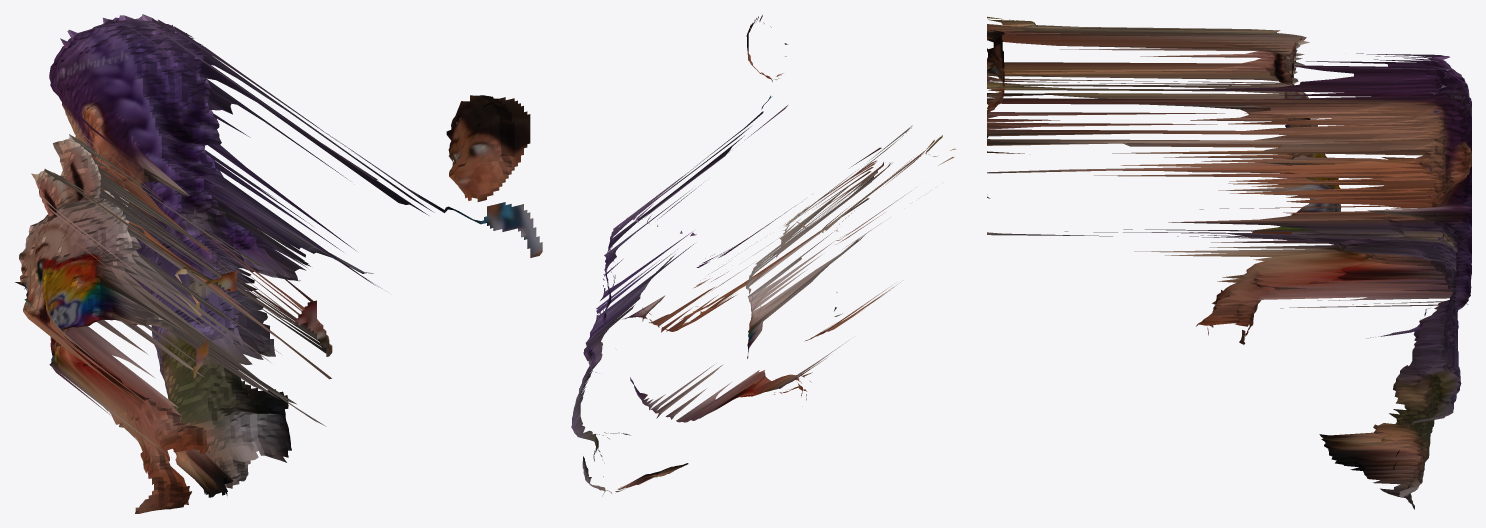
The model's file is frame_00271.glb.
3 renders of one model, left to right at view 1: azimuth 30°, elevation 25°; view 2: azimuth 150°, elevation 25°; view 3: azimuth 270°, elevation 25°, orthographic. The views are drawn at different scales.
Visible parts, largest first — view 1: geometry_0; view 2: geometry_0; view 3: geometry_0.
Part boxes in pixels (x1=…): geometry_0: x1=15, y1=14, x2=542, y2=513; geometry_0: x1=571, y1=15, x2=956, y2=496; geometry_0: x1=987, y1=16, x2=1471, y2=509.
Bounding box in the file's own units: 0.1119 × 0.1756 × 0.16.
1 material, 1 textured.
